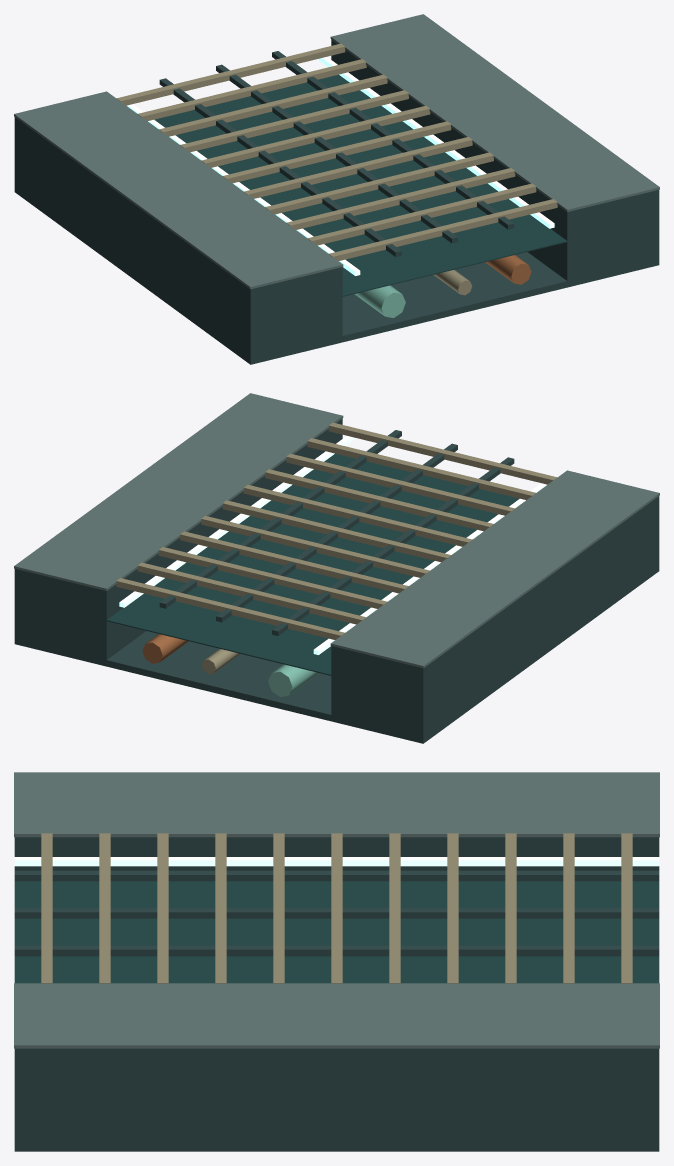
The model's file is floor_dr_grate.glb.
The picture shows the model from 3 angles, top to bottom: view 1: azimuth 30°, elevation 25°; view 2: azimuth 150°, elevation 25°; view 3: azimuth 270°, elevation 25°; orthographic projection. The views are drawn at different scales.
Parts seen in each view (by area): view 1: floor_dr_grate; view 2: floor_dr_grate; view 3: floor_dr_grate.
Part boxes in pixels (x1,y1,x2,y2): floor_dr_grate: [14, 14, 659, 364]; floor_dr_grate: [14, 393, 659, 743]; floor_dr_grate: [14, 772, 659, 1151].
Bounding box in the file's own units: 4.01 × 0.734 × 4.01.
